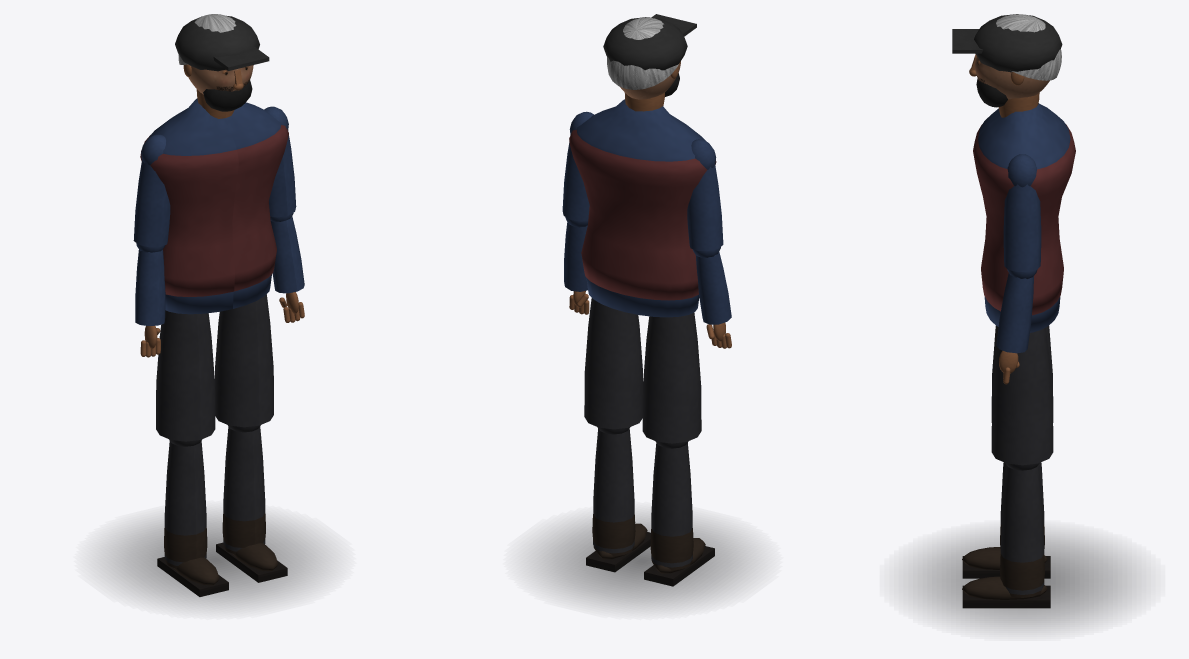
The model's file is npc_patron2.glb.
3 renders of one model, left to right at view 1: azimuth 30°, elevation 25°; view 2: azimuth 150°, elevation 25°; view 3: azimuth 270°, elevation 25°, orthographic. The views are drawn at different scales.
Parts seen in each view (by area): view 1: chest, object 11, legL, legR, shinL, shinR, head, armL, foreL, foreR, armR; view 2: chest, object 11, legL, legR, shinL, shinR, head, armL, foreL, foreR, armR; view 3: chest, object 11, shinR, head, legR, armR, foreR, shinL, legL.
Part boxes in pixels (x1,y1,x2,y2): chest: (140,89,288,314); object 11: (102,512,327,607); legL: (156,310,215,441); legR: (214,294,273,427); shinL: (157,439,228,596); shinR: (216,425,287,582); head: (175,14,269,111); armL: (133,134,170,247); foreL: (135,243,165,357); foreR: (270,213,304,322); armR: (264,106,296,217); chest: (569,92,716,317); object 11: (531,514,754,607); legL: (642,312,701,443); legR: (584,298,643,429); shinL: (644,441,714,586); shinR: (586,427,650,572); head: (603,14,696,99); armL: (687,139,723,250); foreL: (692,247,731,348); foreR: (564,217,589,314); armR: (562,111,593,221); chest: (973,93,1075,332); object 11: (908,532,1136,628); shinR: (962,463,1050,608); head: (952,14,1062,107); legR: (991,327,1053,465); armR: (1003,154,1041,271); foreR: (996,269,1037,384); shinL: (962,462,1050,578); legL: (991,326,1053,422).
Bounding box in the file's own units: 0.868 × 1.79 × 0.868.
Materials: 6 (5 with a texture image).
